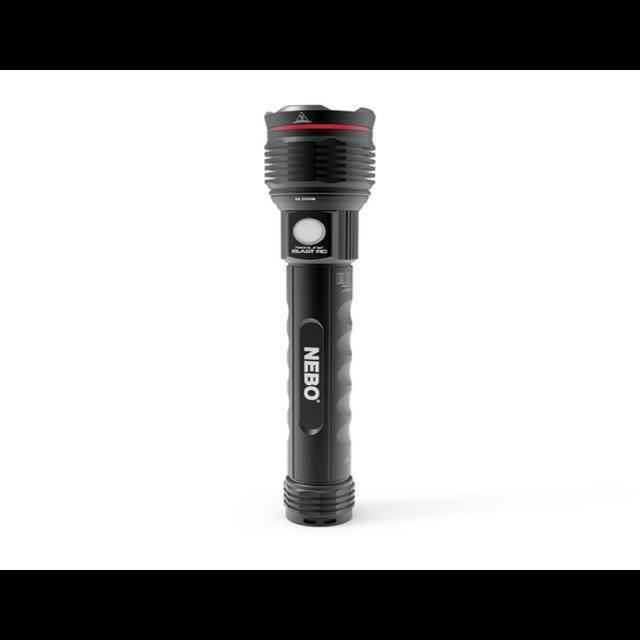Flashlight: (251, 95, 387, 533)
